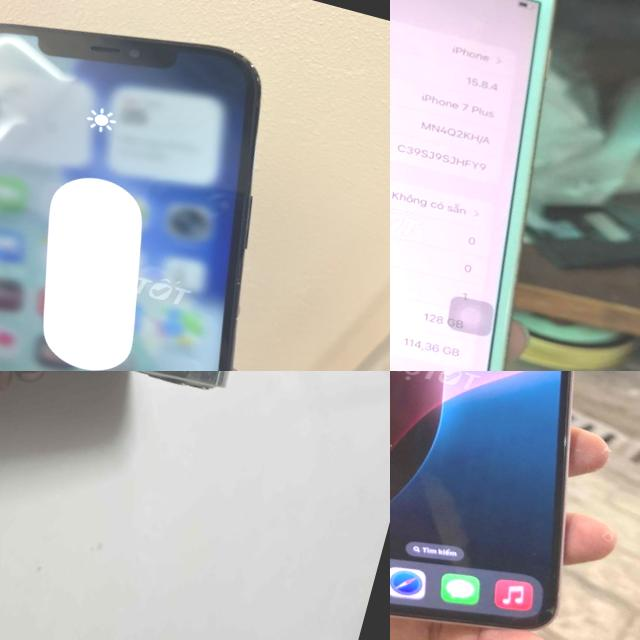gen_12_13: (0, 0, 328, 371), (390, 371, 640, 640), (0, 371, 292, 479)
gen_7_8: (390, 0, 632, 371)
scratch: (42, 371, 243, 405)
